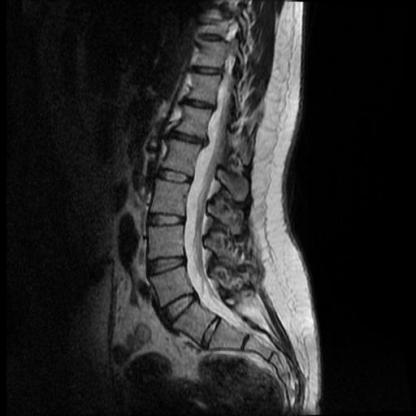Annular Disc Relaxationrotation: (165, 293, 199, 319), (201, 316, 221, 347)
Degenerative Disc Diseaserotation: (162, 294, 200, 319), (154, 167, 191, 187), (203, 314, 221, 346)
Disc Bulgerotation: (156, 167, 192, 186)
